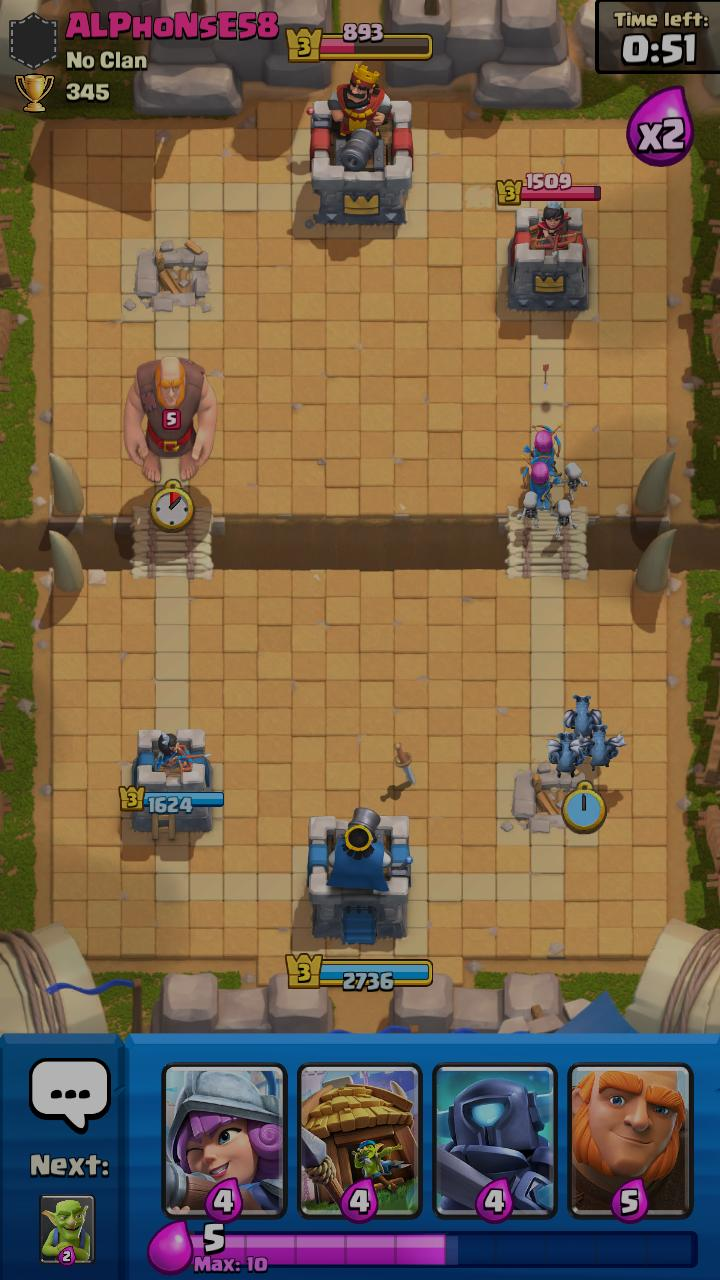ally: (577, 724, 628, 771), (520, 454, 561, 511), (522, 423, 562, 477), (546, 731, 585, 778), (563, 695, 602, 738), (545, 492, 578, 537), (551, 462, 588, 501), (517, 486, 551, 528)
enemy: (123, 356, 218, 483)
